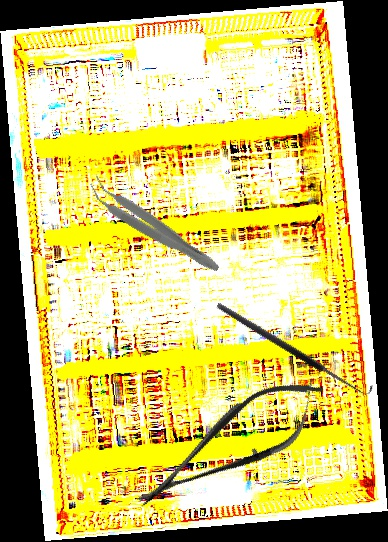Hook Surgical: (215, 294, 375, 400)
Micro Scissor: (120, 360, 340, 528)
Tissue Forceps: (82, 174, 227, 278)
